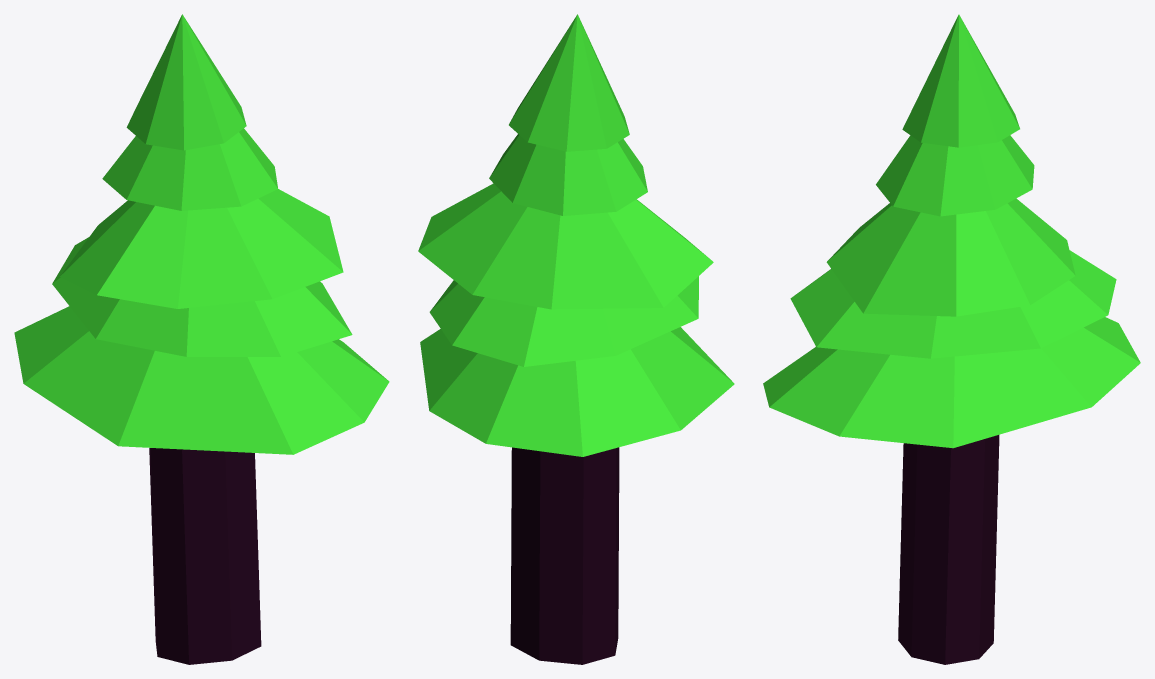
File: tree.fbx
3 views of the same model, side by side, from view 1: azimuth 30°, elevation 25°; view 2: azimuth 150°, elevation 25°; view 3: azimuth 270°, elevation 25° (orthographic). The views are drawn at different scales.
Parts seen in each view (by area): view 1: Cone.004, Cone.002, Cylinder, Cone.003, Cone, Cone.001; view 2: Cone.004, Cone.002, Cylinder, Cone.003, Cone.001, Cone; view 3: Cone.004, Cone.002, Cylinder, Cone.003, Cone, Cone.001.
Boxes of the visible parts, left/top/right/bottom form: Cone.004: left=14, top=306, right=389, bottom=454; Cone.002: left=60, top=189, right=343, bottom=308; Cylinder: left=149, top=448, right=261, bottom=664; Cone.003: left=52, top=237, right=352, bottom=356; Cone: left=102, top=128, right=277, bottom=210; Cone.001: left=126, top=14, right=246, bottom=150; Cone.004: left=420, top=327, right=734, bottom=456; Cone.002: left=418, top=183, right=713, bottom=309; Cylinder: left=510, top=447, right=619, bottom=664; Cone.003: left=429, top=276, right=698, bottom=366; Cone.001: left=509, top=14, right=629, bottom=151; Cone: left=489, top=134, right=647, bottom=215; Cone.004: left=763, top=317, right=1140, bottom=448; Cone.002: left=826, top=198, right=1075, bottom=316; Cylinder: left=898, top=435, right=999, bottom=664; Cone.003: left=790, top=250, right=1116, bottom=358; Cone: left=876, top=135, right=1034, bottom=216; Cone.001: left=902, top=14, right=1019, bottom=147.
Size of the model in its own units: 546 by 1140 by 630.
